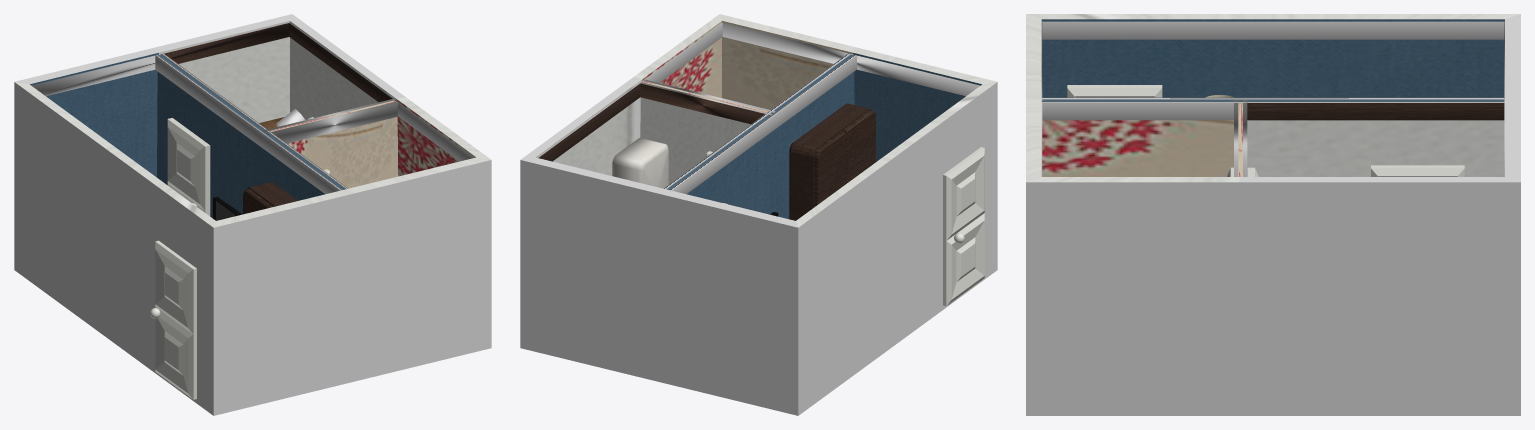
Rendered from escaperoom.fbx.
3 views of the same model, side by side, from view 1: azimuth 30°, elevation 25°; view 2: azimuth 150°, elevation 25°; view 3: azimuth 270°, elevation 25° (orthographic). The views are drawn at different scales.
Visible parts, largest first — view 1: paredes y suelo, bajo paredes, Cube.001, puertas, Cube.003, puertas 2, armario; view 2: paredes y suelo, bajo paredes, Cube.001, armario, puertas, Cube.003, nevera; view 3: paredes y suelo, Cube.001, bajo paredes, puertas, puertas 2.
Boxes of the visible parts, box(x1,y1,x2,y2) form: paredes y suelo: box(14, 14, 491, 415); bajo paredes: box(32, 22, 474, 194); Cube.001: box(157, 54, 344, 218); puertas: box(150, 240, 196, 399); Cube.003: box(270, 100, 398, 188); puertas 2: box(167, 118, 210, 216); armario: box(243, 182, 297, 214); paredes y suelo: box(520, 14, 997, 415); bajo paredes: box(537, 22, 979, 194); Cube.001: box(667, 54, 854, 219); armario: box(789, 103, 875, 220); puertas: box(943, 147, 984, 305); Cube.003: box(640, 81, 768, 184); nevera: box(612, 138, 668, 188); paredes y suelo: box(1026, 14, 1520, 415); Cube.001: box(1042, 99, 1504, 176); bajo paredes: box(1041, 21, 1504, 176); puertas: box(1067, 85, 1162, 97); puertas 2: box(1371, 165, 1464, 176).
Size of the model in its own units: 976 by 600 by 1152.
